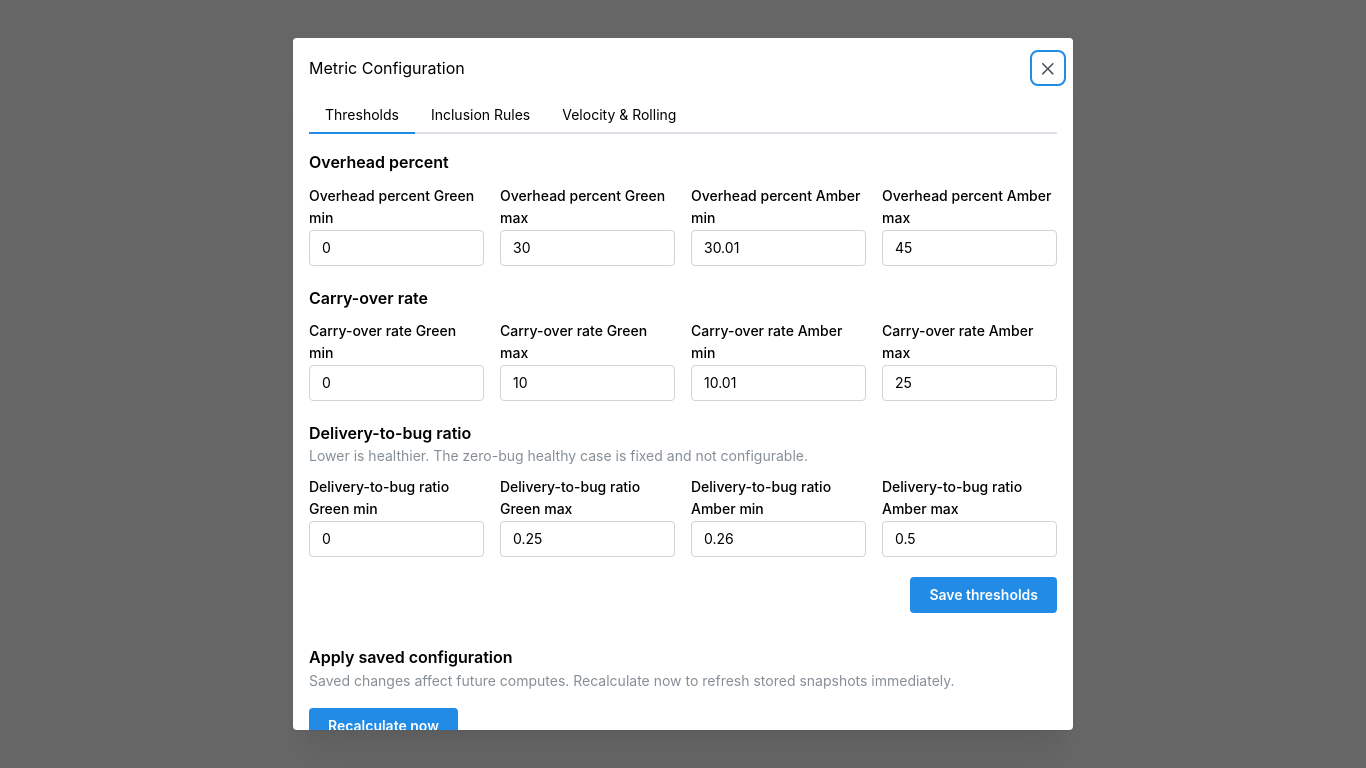
Test: MetricConfigPanel › blocks save and shows inline validation errors
The width and height of the screenshot is (1366, 768).
Replace the text in the field labelled "Overhead percent Green min" with "40" at (396, 248), box [309, 230, 484, 266]
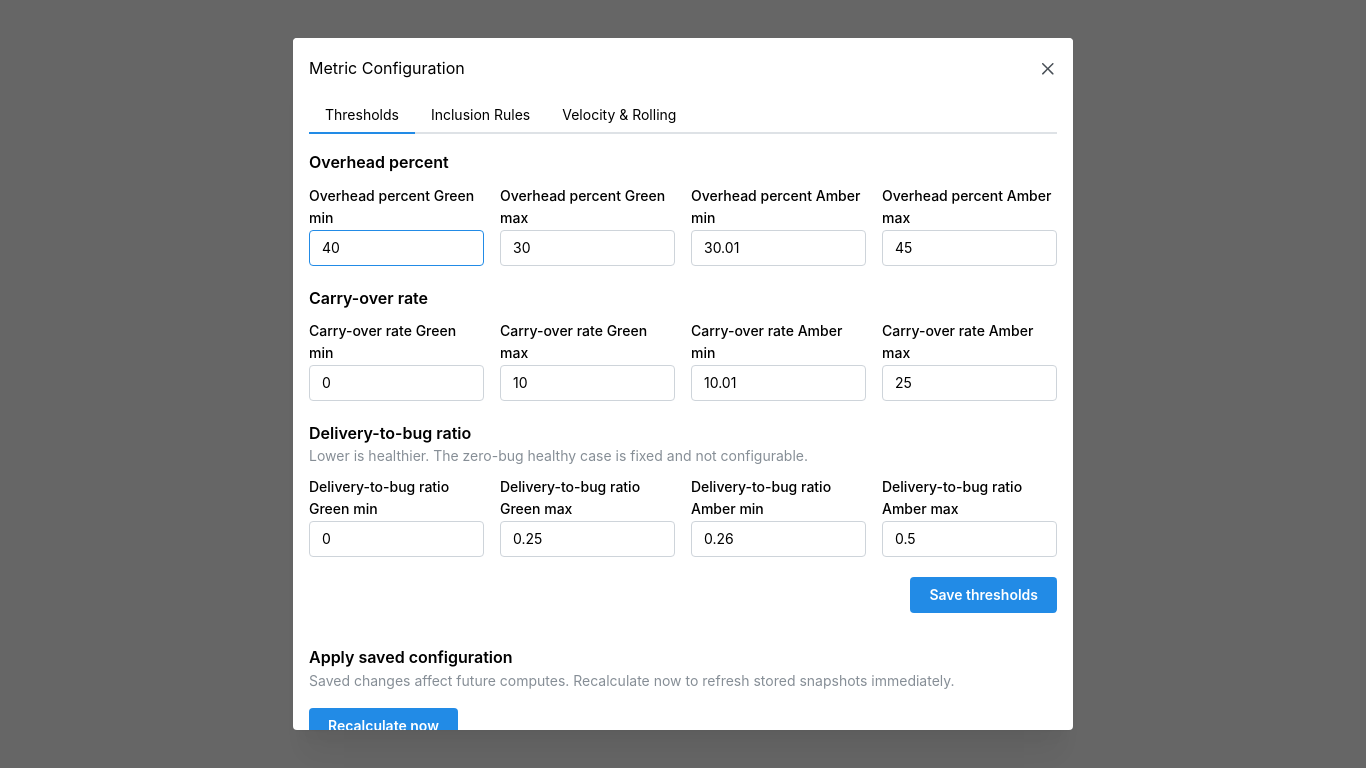
Click the button "Save thresholds".
click(984, 594)  # box [910, 576, 1057, 612]
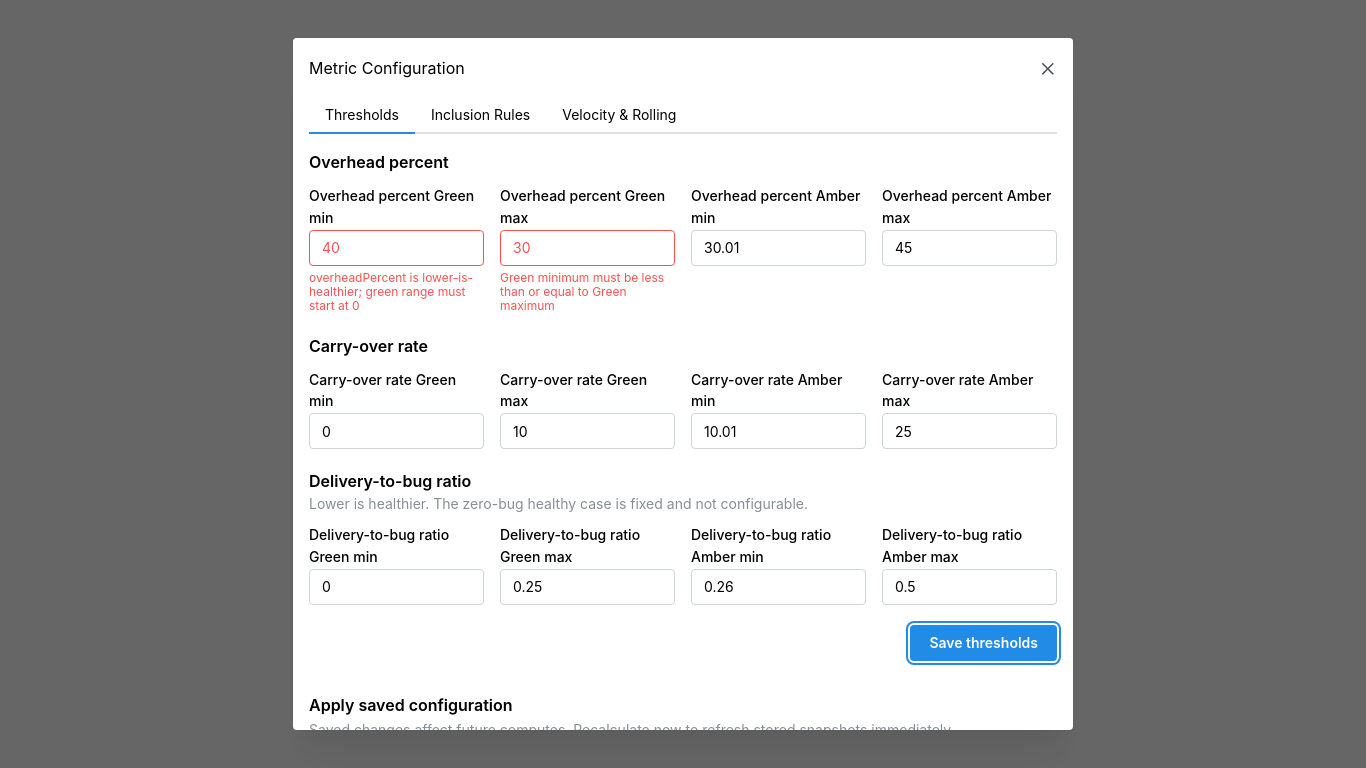
expect the text "Green minimum must be less than or equal to Green maximum" is shown: met, box [500, 271, 675, 314]
